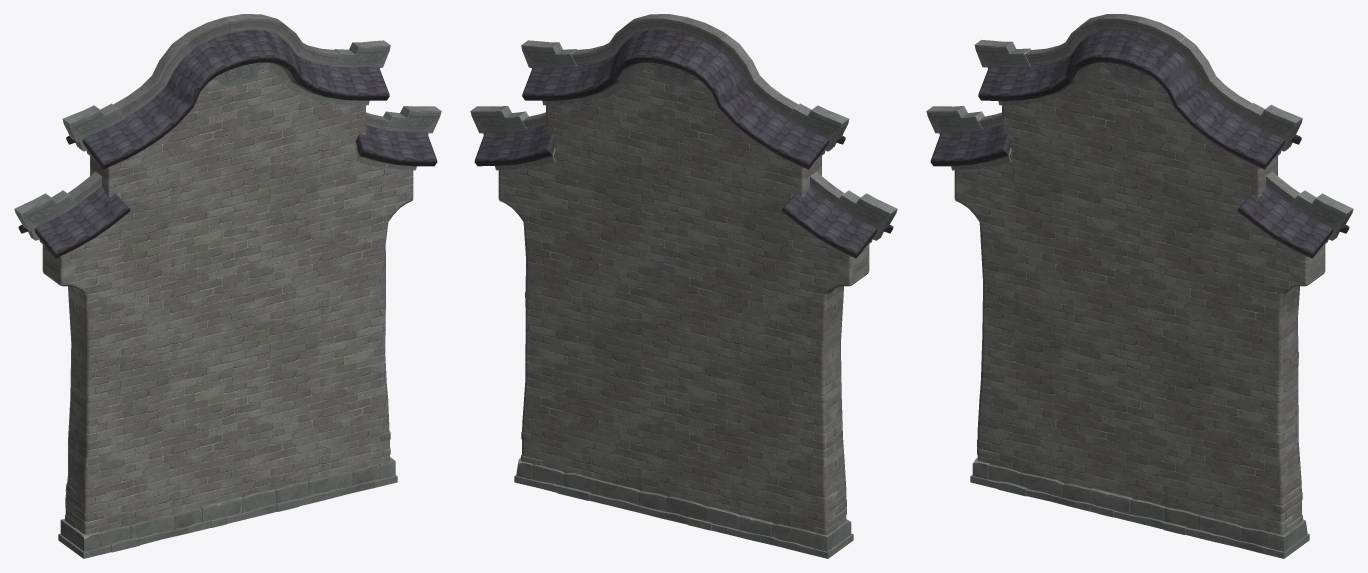
File: Homeworld_Exterior_Cyg_Build_YlbQiang_02_Lod0.fbx
3 renders of one model, left to right at view 1: azimuth 30°, elevation 25°; view 2: azimuth 150°, elevation 25°; view 3: azimuth 330°, elevation 25°, orthographic.
Visible parts, largest first — view 1: Area_Cyg_Build_QYZ_Comp_Qiang_D_01_Lod0; view 2: Area_Cyg_Build_QYZ_Comp_Qiang_D_01_Lod0; view 3: Area_Cyg_Build_QYZ_Comp_Qiang_D_01_Lod0.
Part boxes in pixels (x1=…): Area_Cyg_Build_QYZ_Comp_Qiang_D_01_Lod0: x1=14, y1=14, x2=441, y2=558; Area_Cyg_Build_QYZ_Comp_Qiang_D_01_Lod0: x1=470, y1=14, x2=897, y2=558; Area_Cyg_Build_QYZ_Comp_Qiang_D_01_Lod0: x1=926, y1=14, x2=1353, y2=558.
Size of the model in its own units: 11.73 by 13.12 by 1.84.
